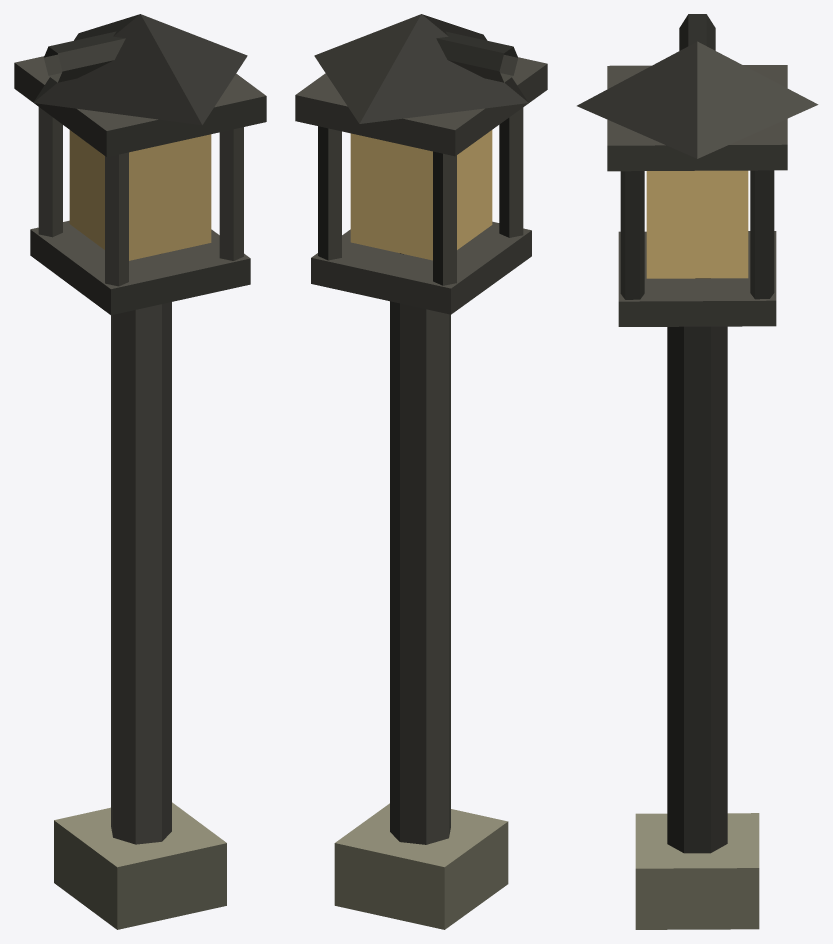
3 views of the same model, side by side, from view 1: azimuth 30°, elevation 25°; view 2: azimuth 150°, elevation 25°; view 3: azimuth 270°, elevation 25° (orthographic). The views are drawn at different scales.
Visible parts, largest first — view 1: 65bfddf180e7290af05d30d581e5efd23709c05ba433e0a70b1a9b7f7c9d; view 2: 65bfddf180e7290af05d30d581e5efd23709c05ba433e0a70b1a9b7f7c9d; view 3: 65bfddf180e7290af05d30d581e5efd23709c05ba433e0a70b1a9b7f7c9d.
Boxes of the visible parts, x1=… form: 65bfddf180e7290af05d30d581e5efd23709c05ba433e0a70b1a9b7f7c9d: x1=14, y1=14, x2=266, y2=929; 65bfddf180e7290af05d30d581e5efd23709c05ba433e0a70b1a9b7f7c9d: x1=295, y1=14, x2=547, y2=929; 65bfddf180e7290af05d30d581e5efd23709c05ba433e0a70b1a9b7f7c9d: x1=577, y1=14, x2=818, y2=929.
Size of the model in its own units: 0.86 by 3.38 by 0.86.
2 materials, 1 textured.
